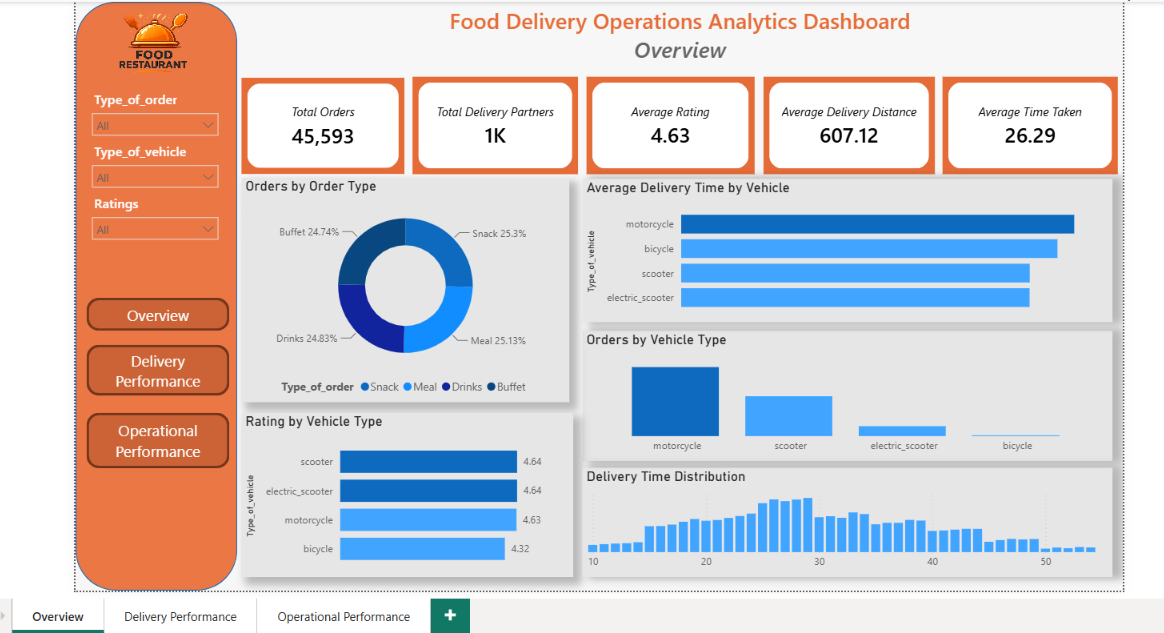

This screenshot's page, from the dashboard's own definition file:
{"tool":"powerbi","page":{"name":"Overview","canvas":[1280,720],"ordinal":0},"visuals":[{"type":"shape","box":[0,0,197.7,719.9],"z":0},{"type":"slicer","fields":{"Values":["Food_delivery_time_data.Type_of_order"]},"box":[10.1,102.4,174.6,63.5],"z":0,"group":"g1"},{"type":"textbox","box":[198.1,0,1082.2,88],"z":1000},{"type":"slicer","fields":{"Values":["Food_delivery_time_data.Type_of_vehicle"]},"box":[10.1,165.9,174.6,63.5],"z":1000,"group":"g1"},{"type":"cardVisual","fields":{"Data":["Food_delivery_time_data.Total Orders"]},"box":[197.9,88.1,209.9,127.9],"z":2000},{"type":"slicer","fields":{"Values":["Food_delivery_time_data.Delivery_person_Ratings"]},"box":[10.1,229.4,174.6,63.5],"z":2000,"group":"g1"},{"type":"cardVisual","fields":{"Data":["Food_delivery_time_data.Total Delivery Partners"]},"box":[407.8,86.9,212.3,129.1],"z":3000},{"type":"cardVisual","fields":{"Data":["Food_delivery_time_data.Average Rating"]},"box":[620.1,86.9,216,129.1],"z":4000},{"type":"cardVisual","fields":{"Data":["Food_delivery_time_data.Average Delivery Distance"]},"box":[836.1,86.9,219.6,129.1],"z":5000},{"type":"cardVisual","fields":{"Data":["Food_delivery_time_data.Average Time Taken"]},"box":[1055.6,86.9,224.4,129.1],"z":6000},{"type":"columnChart","title":"Orders by Vehicle Type","fields":{"Category":["Food_delivery_time_data.Type_of_vehicle"],"Y":["CountNonNull(Food_delivery_time_data.ID)"]},"box":[620,402.3,648.1,159],"z":7000},{"type":"donutChart","title":"Orders by Order Type","fields":{"Category":["Food_delivery_time_data.Type_of_order"],"Y":["CountNonNull(Food_delivery_time_data.ID)"]},"box":[203.4,215,401.1,274.1],"z":8000},{"type":"clusteredBarChart","title":"Average Delivery Time by Vehicle","fields":{"Category":["Food_delivery_time_data.Type_of_vehicle"],"Y":["Avg(Food_delivery_time_data.Time_taken(min))"]},"box":[620,216.4,648.1,174.9],"z":9000},{"type":"barChart","title":"Rating by Vehicle Type","fields":{"Category":["Food_delivery_time_data.Type_of_vehicle"],"Y":["Avg(Food_delivery_time_data.Delivery_person_Ratings)"]},"box":[203.4,502.1,405.4,200.5],"z":10000},{"type":"clusteredColumnChart","title":"Delivery Time Distribution","fields":{"Category":["Food_delivery_time_data.Time_taken(min)"],"Y":["Sum(Food_delivery_time_data.Time_taken(min))"]},"box":[620,569.8,648.1,133.3],"z":11000},{"type":"group","id":"g1","title":"Group 1","box":[10.1,102.4,174.6,190.4],"z":12000},{"type":"actionButton","box":[13,362.1,174.6,40.4],"z":13000},{"type":"actionButton","box":[13,419.8,174.6,62],"z":14000},{"type":"actionButton","box":[13,502.1,174.6,67.8],"z":15000},{"type":"image","box":[31.7,14.4,131.3,73.6],"z":16000}]}

Visuals, with their boxes on the page's 1280x720 design canvas (x1, y1, x2, y2). These are canvas units, not pixel positions in the 1164x633 screenshot, which may show the page scaled, cropped or inside an application window:
shape: (left=0, top=0, right=198, bottom=720)
slicer - Food_delivery_time_data.Type_of_order: (left=10, top=102, right=185, bottom=166)
textbox: (left=198, top=0, right=1280, bottom=88)
slicer - Food_delivery_time_data.Type_of_vehicle: (left=10, top=166, right=185, bottom=229)
cardVisual - Food_delivery_time_data.Total Orders: (left=198, top=88, right=408, bottom=216)
slicer - Food_delivery_time_data.Delivery_person_Ratings: (left=10, top=229, right=185, bottom=293)
cardVisual - Food_delivery_time_data.Total Delivery Partners: (left=408, top=87, right=620, bottom=216)
cardVisual - Food_delivery_time_data.Average Rating: (left=620, top=87, right=836, bottom=216)
cardVisual - Food_delivery_time_data.Average Delivery Distance: (left=836, top=87, right=1056, bottom=216)
cardVisual - Food_delivery_time_data.Average Time Taken: (left=1056, top=87, right=1280, bottom=216)
"Orders by Vehicle Type" columnChart: (left=620, top=402, right=1268, bottom=561)
"Orders by Order Type" donutChart: (left=203, top=215, right=604, bottom=489)
"Average Delivery Time by Vehicle" clusteredBarChart: (left=620, top=216, right=1268, bottom=391)
"Rating by Vehicle Type" barChart: (left=203, top=502, right=609, bottom=703)
"Delivery Time Distribution" clusteredColumnChart: (left=620, top=570, right=1268, bottom=703)
"Group 1" group: (left=10, top=102, right=185, bottom=293)
actionButton: (left=13, top=362, right=188, bottom=402)
actionButton: (left=13, top=420, right=188, bottom=482)
actionButton: (left=13, top=502, right=188, bottom=570)
image: (left=32, top=14, right=163, bottom=88)
